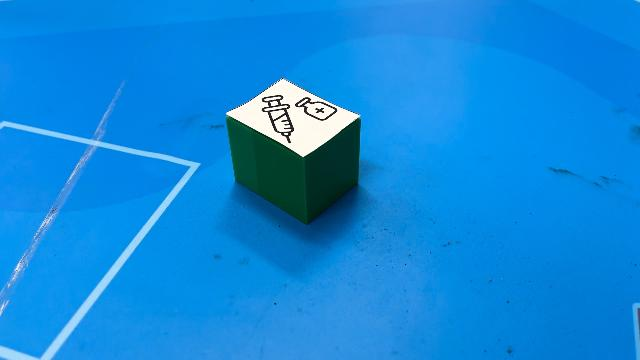syringe: (225, 78, 361, 224)
